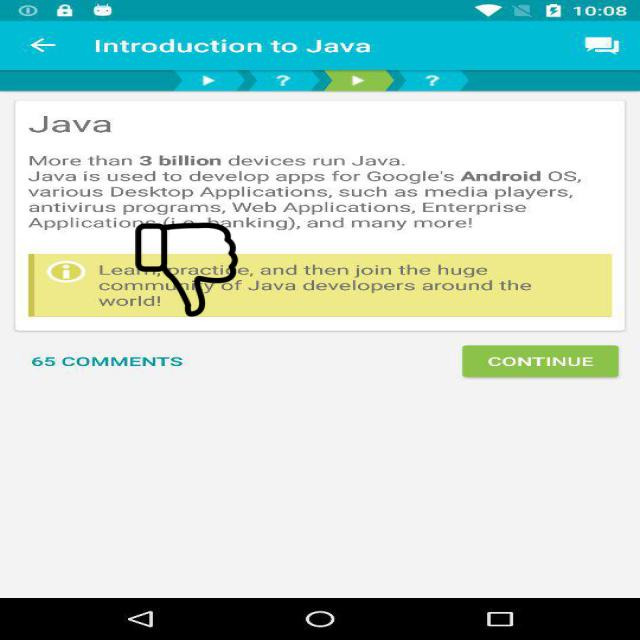obstruction: (134, 222, 239, 316)
